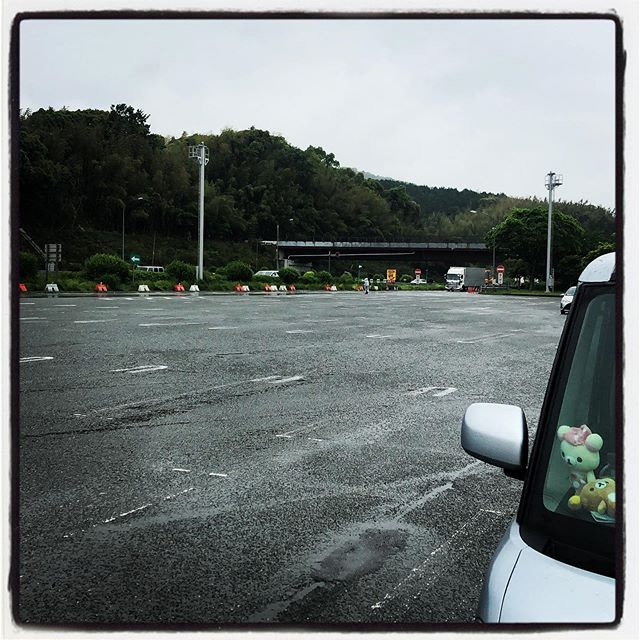road: (1, 297, 522, 640)
sky: (30, 23, 622, 206)
tree: (499, 213, 574, 288)
truck: (443, 259, 487, 289)
vegetation: (1, 133, 415, 285)
